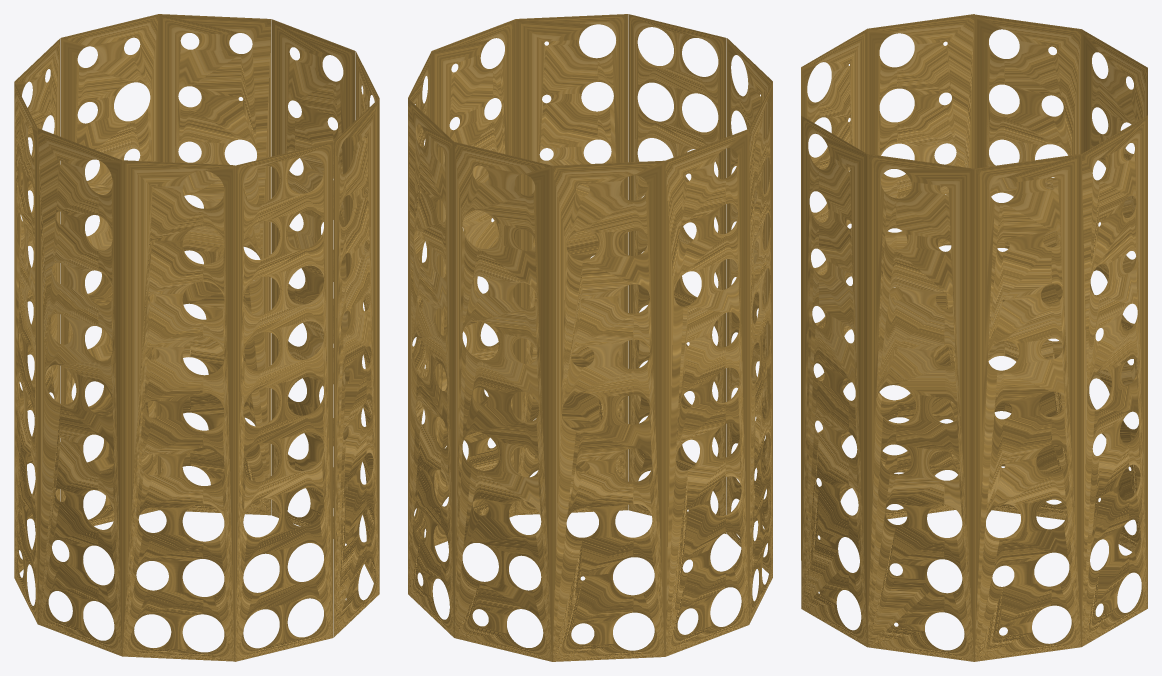
File: cilindro.gltf
The picture shows the model from 3 angles, left to right: view 1: azimuth 30°, elevation 25°; view 2: azimuth 150°, elevation 25°; view 3: azimuth 270°, elevation 25°; orthographic projection.
Visible parts, largest first — view 1: rect28.001, rect28.002, rect28, rect28.006, rect28.009, rect28.007, rect28.005, rect28.003, rect28.004, rect28.008; view 2: rect28.004, rect28.005, rect28.003, rect28.009, rect28.006, rect28, rect28.008, rect28.002, rect28.001, rect28.007; view 3: rect28.007, rect28.008, rect28.009, rect28.006, rect28.002, rect28.003, rect28.004, rect28.001.
Part boxes in pixels (x1,y1,x2,y2): rect28.001: (122,160,234,661); rect28.002: (38,128,121,656); rect28: (235,142,333,661); rect28.006: (158,14,271,515); rect28.009: (333,98,379,637); rect28.007: (271,19,355,543); rect28.005: (60,14,158,525); rect28.003: (14,82,37,624); rect28.004: (14,38,60,572); rect28.008: (356,52,379,582); rect28.004: (552,160,664,661); rect28.005: (454,142,552,661); rect28.003: (665,129,749,656); rect28.009: (515,14,628,515); rect28.006: (408,98,453,637); rect28: (628,14,726,533); rect28.008: (431,19,515,545); rect28.002: (749,82,772,623); rect28.001: (727,38,772,573); rect28.007: (408,51,431,573); rect28.007: (974,154,1081,661); rect28.008: (867,154,974,661); rect28.009: (801,116,867,646); rect28.006: (1081,115,1147,646); rect28.002: (867,14,974,519); rect28.003: (974,14,1081,519); rect28.004: (1081,29,1147,551); rect28.001: (801,29,867,560).
Bounding box in the file's own units: 0.1575 × 0.2352 × 0.1497.
1 material, 1 textured.
